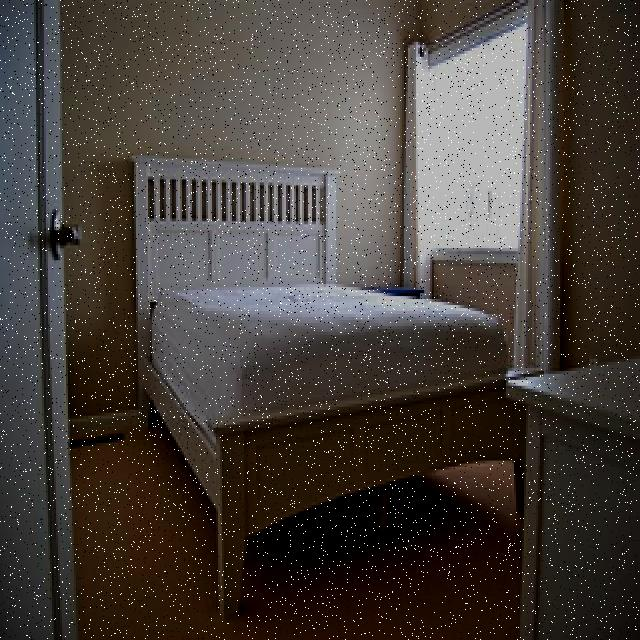bed: (132, 165, 502, 584)
